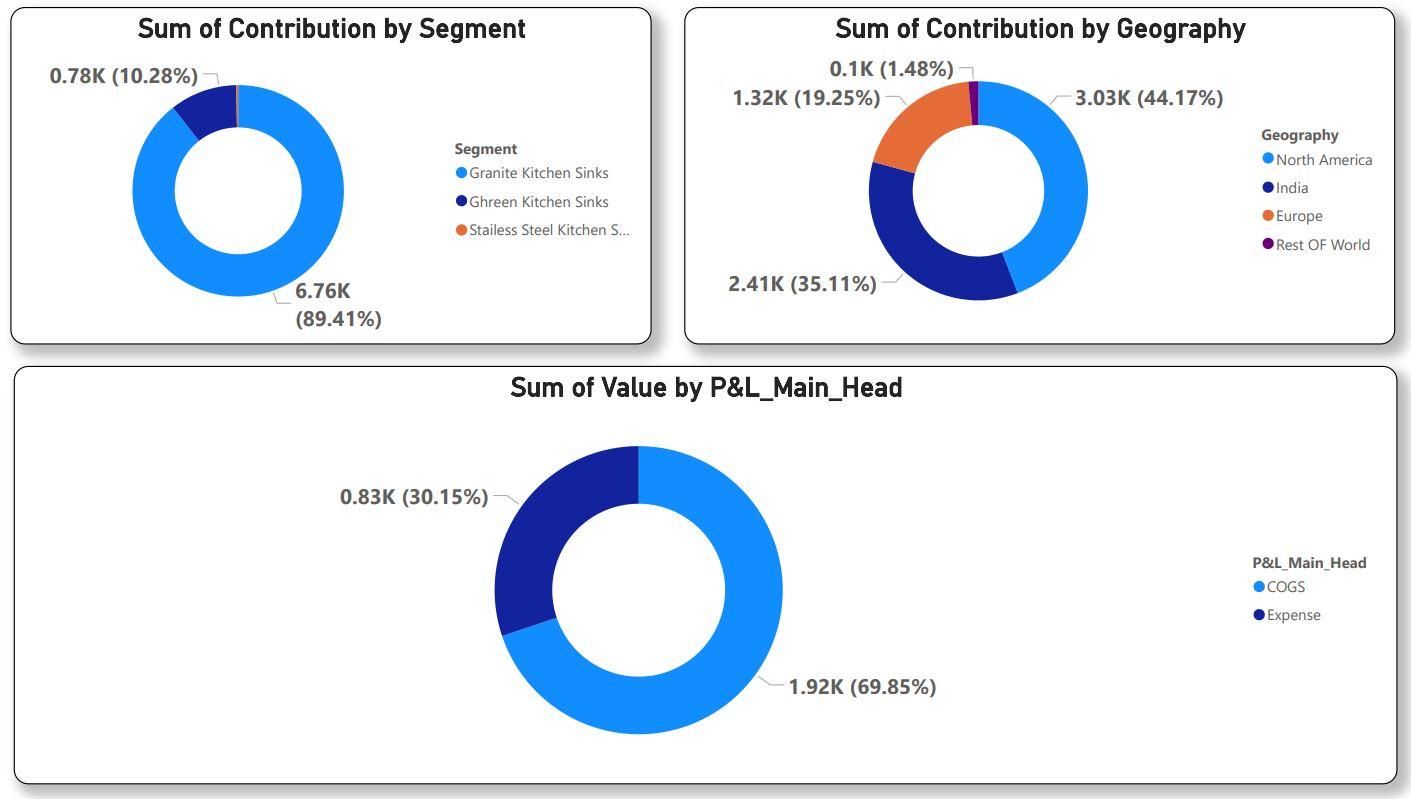

The dashboard page shown, as its layout file describes it:
{"tool":"powerbi","page":{"name":"Revenue & Expense","canvas":[1280,720],"ordinal":2},"visuals":[{"type":"donutChart","fields":{"Category":["Segment Contribution.Segment"],"Y":["Sum(Segment Contribution.Contribution)"]},"box":[19.3,15.7,569.4,300.4],"z":0},{"type":"donutChart","fields":{"Category":["Geography Contribution.Geography"],"Y":["Sum(Geography Contribution.Contribution)"]},"box":[617.7,15.7,632.2,300.4],"z":1000},{"type":"donutChart","fields":{"Category":["P&L Dim.P&L_Main_Head"],"Y":["Sum(P&L Fact.Value)"]},"box":[21.7,335.4,1230.6,371.6],"z":2000}]}

Visuals, with their boxes in screenshot pixels (x1, y1, x2, y2), scaled from the page's 1280x720 canvas onto the 1411x802 screenshot:
donutChart - Segment Contribution.Segment x Sum(Segment Contribution.Contribution): <box>21,17,649,352</box>
donutChart - Geography Contribution.Geography x Sum(Geography Contribution.Contribution): <box>681,17,1378,352</box>
donutChart - P&L Dim.P&L_Main_Head x Sum(P&L Fact.Value): <box>24,374,1380,788</box>
